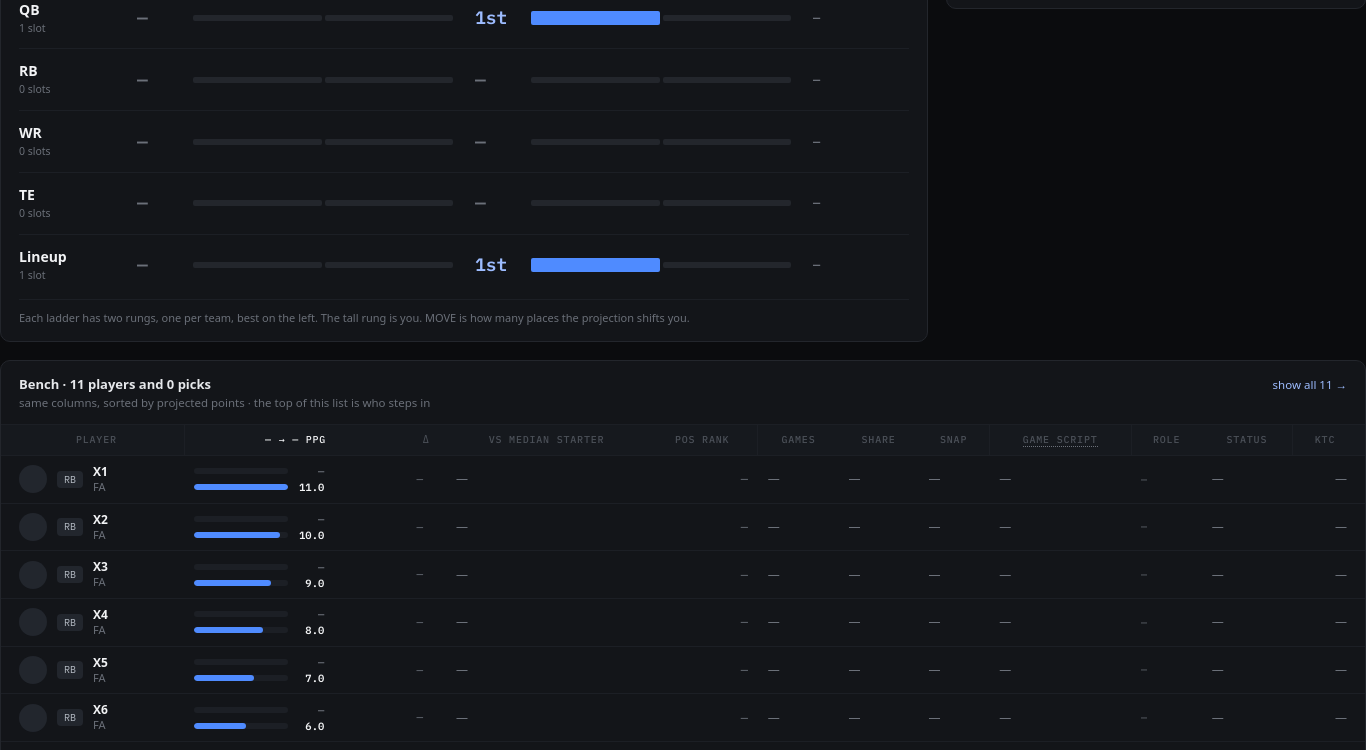
it: Fixture C › 15. bench collapses to 10 with a toggle
(page scrolled)
Click the button with test id "bench-toggle": (1310, 385) [1273,376,1347,393]
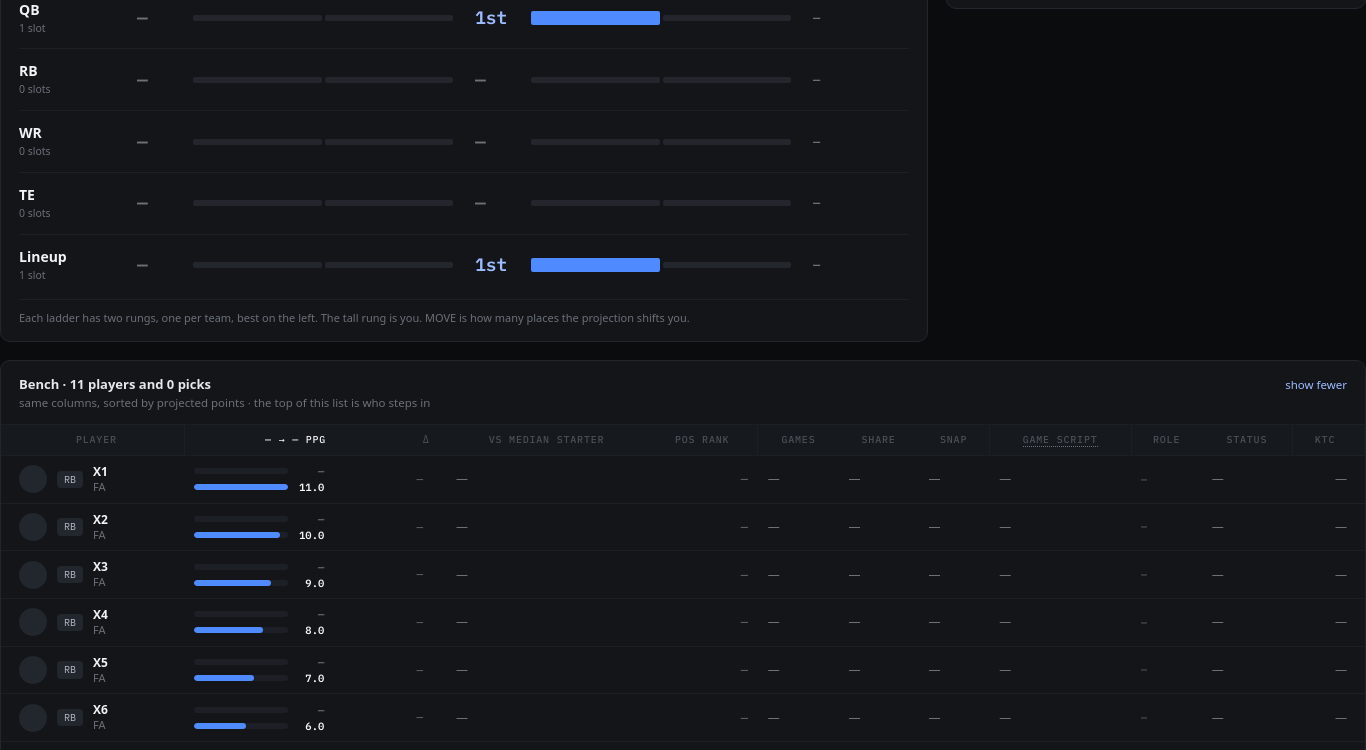
Expected: the button with test id "bench-toggle" reads "show fewer", [1285,376,1347,393]
